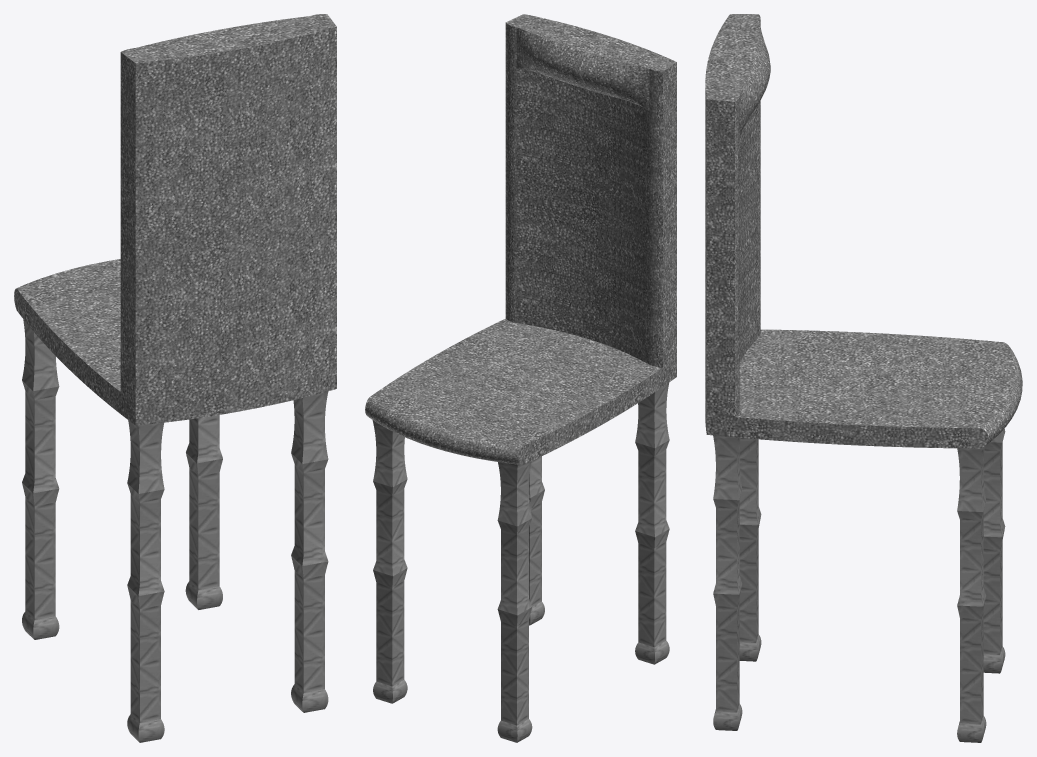
The picture shows the model from 3 angles, left to right: view 1: azimuth 30°, elevation 25°; view 2: azimuth 150°, elevation 25°; view 3: azimuth 270°, elevation 25°; orthographic projection. The views are drawn at different scales.
Parts seen in each view (by area): view 1: mesh2_mesh2-geometry, mesh1_mesh1-geometry; view 2: mesh2_mesh2-geometry, mesh1_mesh1-geometry; view 3: mesh2_mesh2-geometry, mesh1_mesh1-geometry.
Part boxes in pixels (x1,y1,x2,y2): mesh2_mesh2-geometry: [14, 14, 336, 425]; mesh1_mesh1-geometry: [22, 319, 328, 742]; mesh2_mesh2-geometry: [365, 14, 676, 464]; mesh1_mesh1-geometry: [372, 383, 669, 742]; mesh2_mesh2-geometry: [705, 14, 1022, 448]; mesh1_mesh1-geometry: [713, 428, 1005, 742].
Bounding box in the file's own units: 0.2917 × 0.8711 × 0.395.
2 materials, 2 textured.
